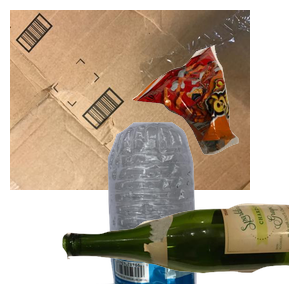cardboard: (10, 10, 250, 190)
glass: (60, 201, 300, 300)
plastic: (96, 120, 285, 300)
trash: (130, 43, 300, 190)
